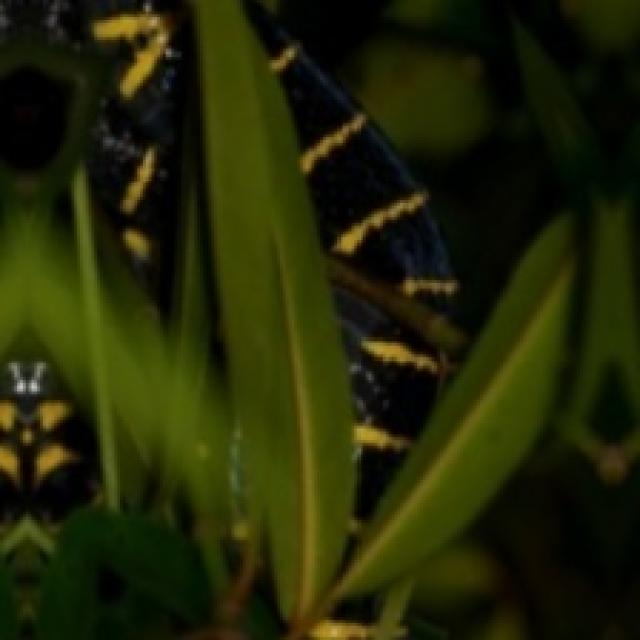mangrove cat snake: (249, 9, 463, 517), (89, 0, 189, 306)
